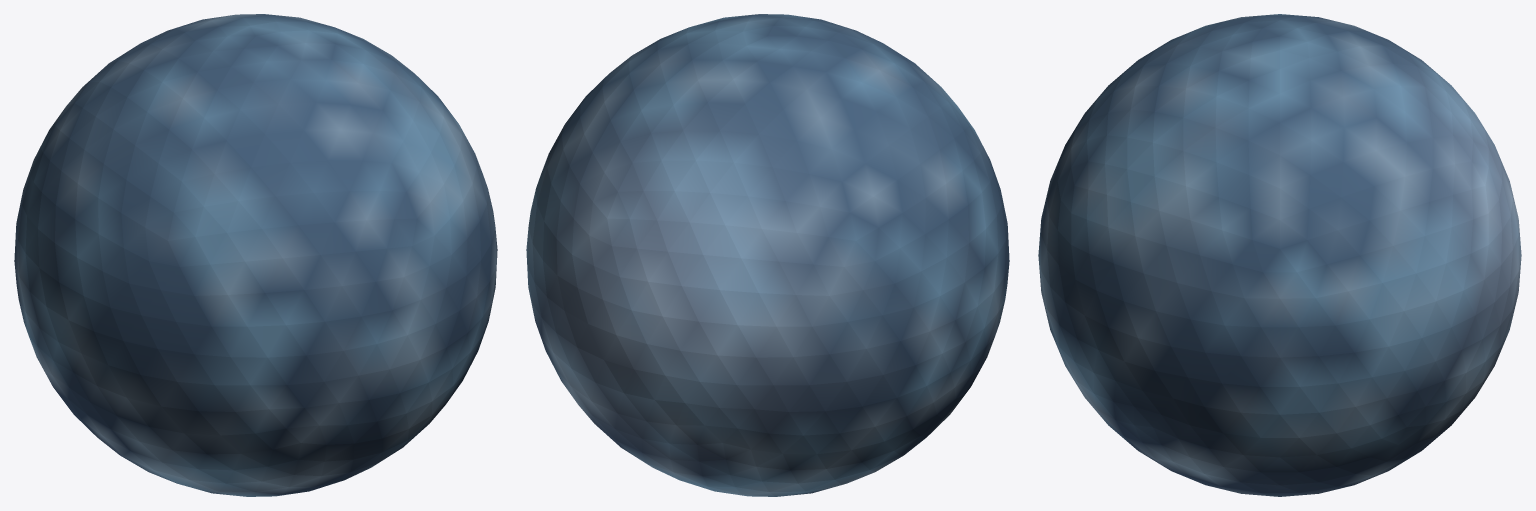
The model's file is sky_epilogue.glb.
3 renders of one model, left to right at view 1: azimuth 30°, elevation 25°; view 2: azimuth 150°, elevation 25°; view 3: azimuth 270°, elevation 25°, orthographic.
Visible parts, largest first — view 1: sky_epilogue; view 2: sky_epilogue; view 3: sky_epilogue.
Boxes of the visible parts, box(x1,y1,x2,y2) form: sky_epilogue: box(14, 14, 497, 496); sky_epilogue: box(526, 14, 1009, 496); sky_epilogue: box(1038, 14, 1521, 496).
Bounding box in the file's own units: 2 × 2 × 2.
